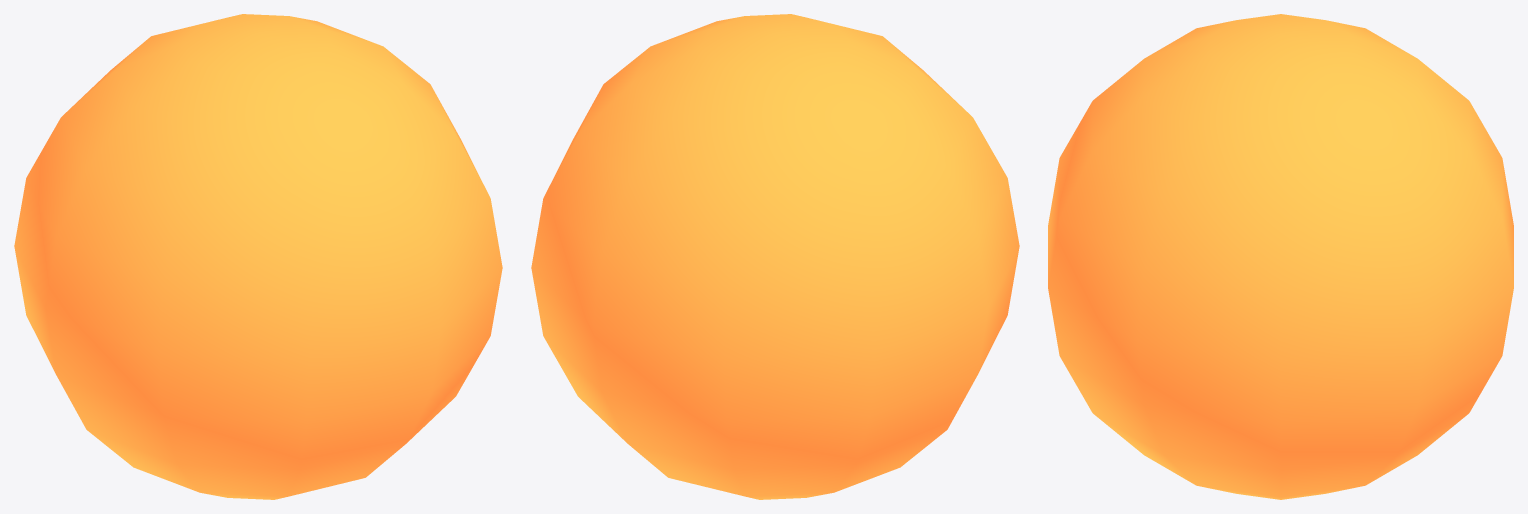
File: ember.glb
3 views of the same model, side by side, from view 1: azimuth 30°, elevation 25°; view 2: azimuth 150°, elevation 25°; view 3: azimuth 270°, elevation 25° (orthographic).
Bounding box in the file's own units: 0.2238 × 0.2238 × 0.2129.
